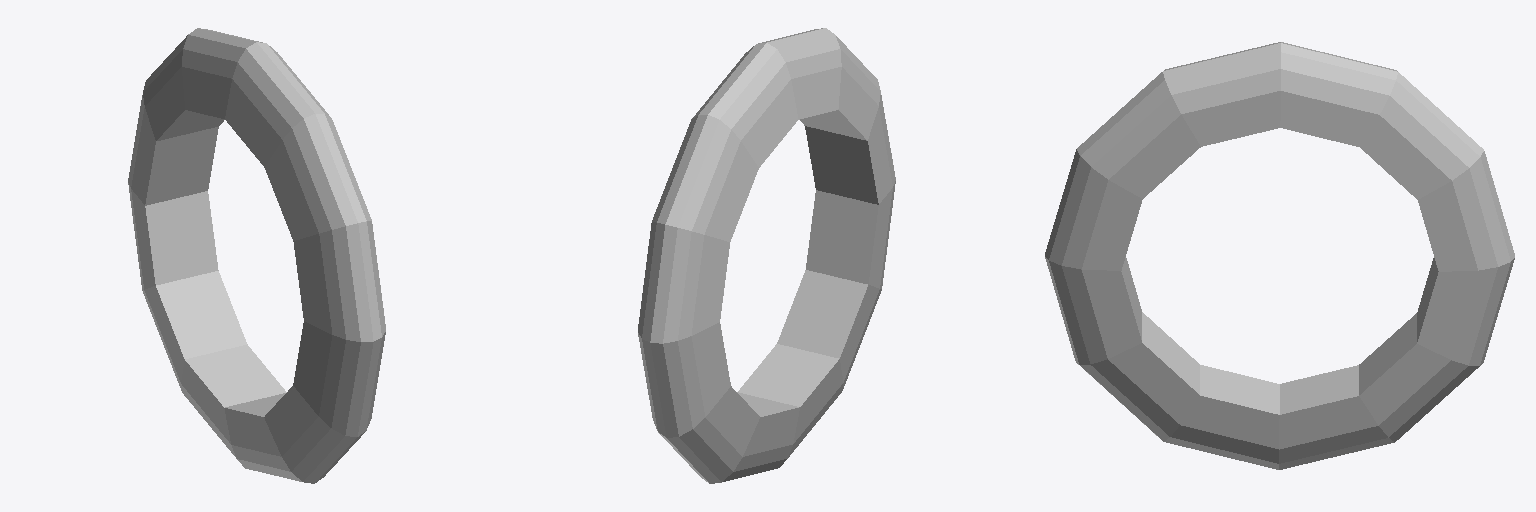
The model's file is Golden ring.obj.
3 views of the same model, side by side, from view 1: azimuth 30°, elevation 25°; view 2: azimuth 150°, elevation 25°; view 3: azimuth 270°, elevation 25° (orthographic).
Visible parts, largest first — view 1: pTorus1; view 2: pTorus1; view 3: pTorus1.
Part boxes in pixels (left/top/right/bottom): pTorus1: left=128, top=28, right=385, bottom=483; pTorus1: left=638, top=28, right=895, bottom=483; pTorus1: left=1045, top=42, right=1514, bottom=469.
Size of the model in its own units: 0.9358 by 5.96 by 5.96.